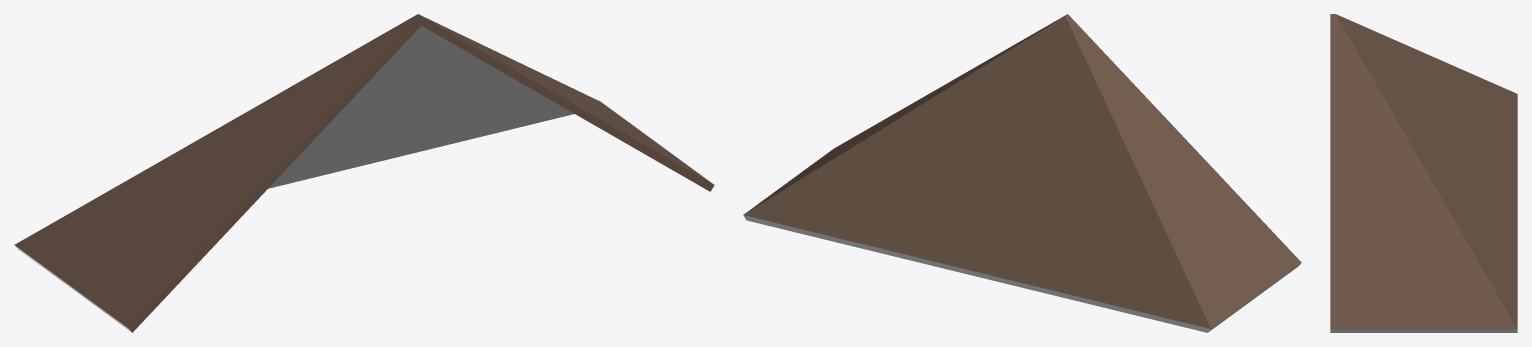
File: Roof2_C2_02.fbx
3 views of the same model, side by side, from view 1: azimuth 30°, elevation 25°; view 2: azimuth 150°, elevation 25°; view 3: azimuth 270°, elevation 25° (orthographic). The views are drawn at different scales.
Parts seen in each view (by area): view 1: Roof2_C2_02; view 2: Roof2_C2_02; view 3: Roof2_C2_02.
Part boxes in pixels (x1=…): Roof2_C2_02: x1=14, y1=14, x2=714, y2=332; Roof2_C2_02: x1=743, y1=14, x2=1301, y2=332; Roof2_C2_02: x1=1330, y1=14, x2=1517, y2=332.
Bounding box in the file's own units: 833 × 334 × 280.
